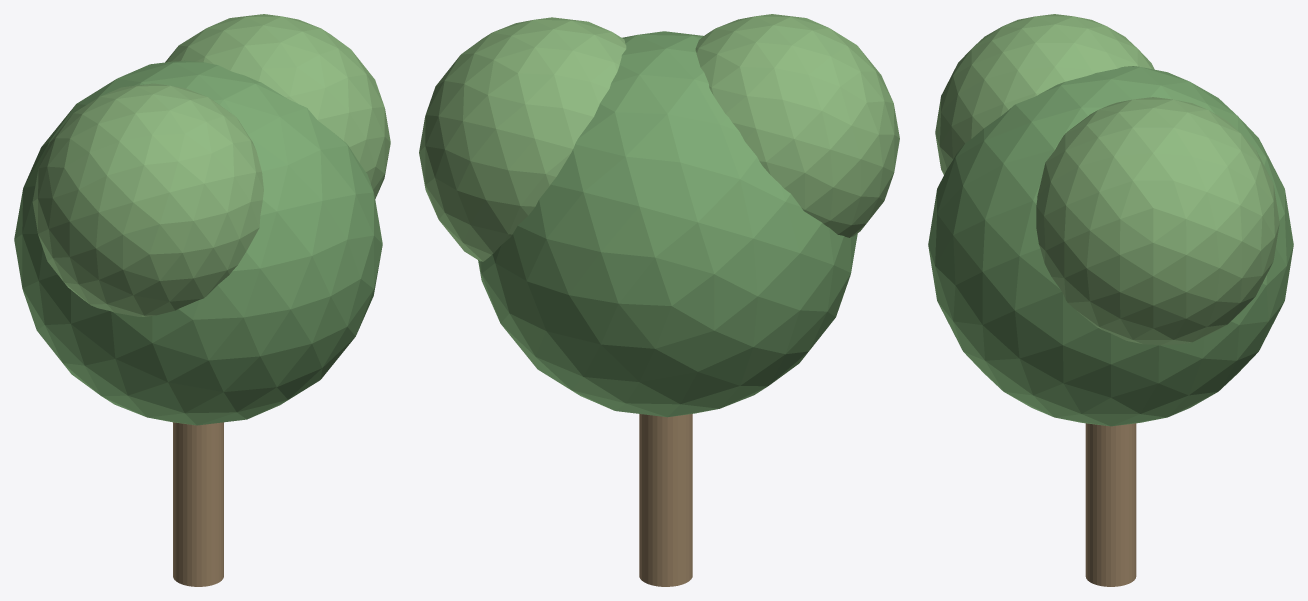
Rendered from oak-tree.glb.
3 views of the same model, side by side, from view 1: azimuth 30°, elevation 25°; view 2: azimuth 150°, elevation 25°; view 3: azimuth 270°, elevation 25° (orthographic). The views are drawn at different scales.
Visible parts, largest first — view 1: geometry_0; view 2: geometry_0; view 3: geometry_0.
Boxes of the visible parts, bbox=[...] form: geometry_0: bbox=[14, 14, 390, 586]; geometry_0: bbox=[419, 14, 899, 586]; geometry_0: bbox=[928, 14, 1293, 586].
Size of the model in its own units: 3.05 by 4.05 by 2.6.
